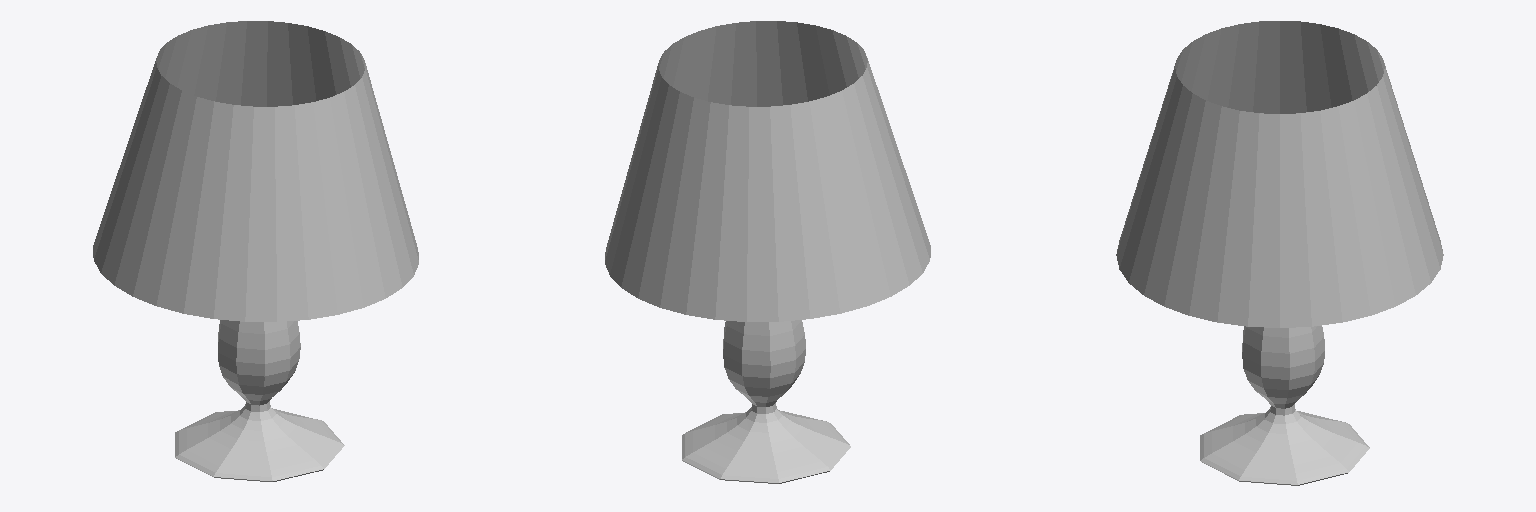
Rendered from Lamp.obj.
3 views of the same model, side by side, from view 1: azimuth 30°, elevation 25°; view 2: azimuth 150°, elevation 25°; view 3: azimuth 270°, elevation 25° (orthographic).
Visible parts, largest first — view 1: BezierCurve_Mesh; view 2: BezierCurve_Mesh; view 3: BezierCurve_Mesh.
Boxes of the visible parts, box(x1,y1,x2,y2) form: BezierCurve_Mesh: box(93, 21, 418, 481); BezierCurve_Mesh: box(605, 21, 930, 483); BezierCurve_Mesh: box(1116, 21, 1443, 485).
Size of the model in its own units: 3.12 by 4.07 by 3.12.